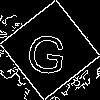G: (25, 25, 69, 75)
